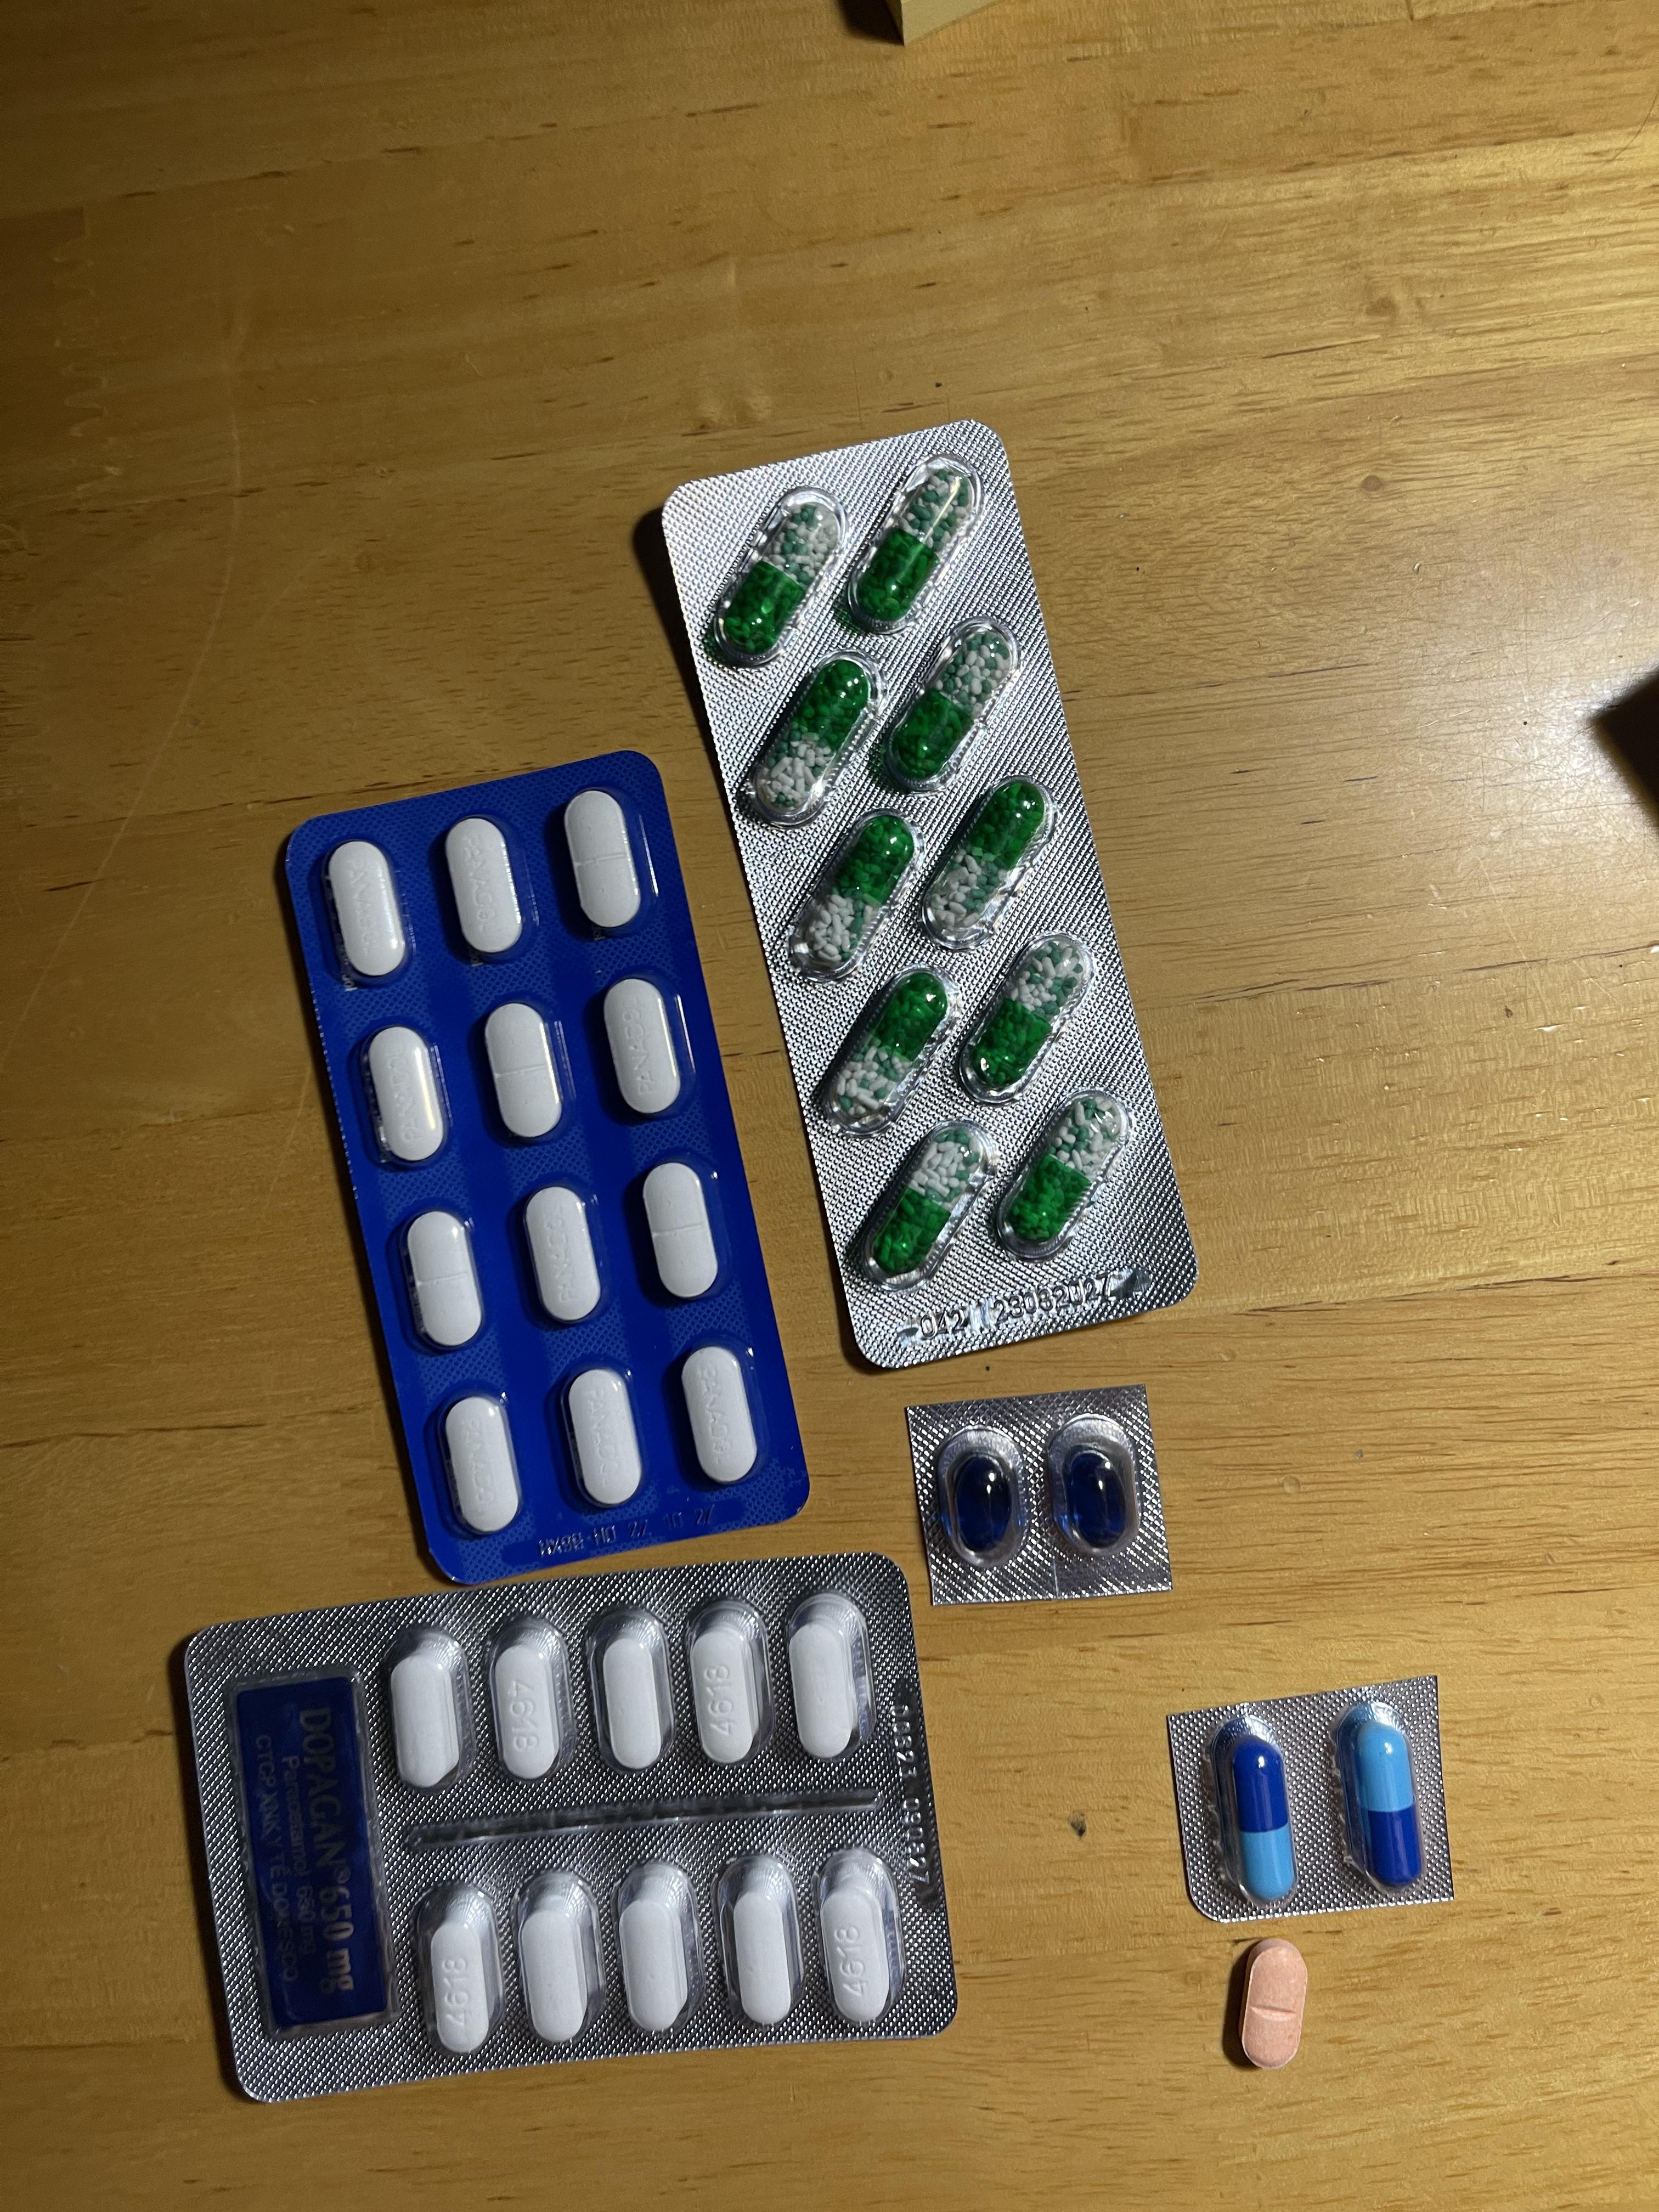Lincomyxin_500mg: (951, 1453, 1015, 1558), (1063, 1449, 1126, 1548)
Loratadine_10mg: (1235, 1934, 1308, 2070)
Paracetamol_350mg: (362, 1026, 448, 1166), (602, 978, 685, 1121), (482, 1000, 565, 1142), (402, 1211, 484, 1353), (562, 1367, 645, 1508), (523, 1186, 605, 1327), (444, 818, 526, 958), (325, 841, 407, 980), (680, 1345, 759, 1487), (640, 1164, 720, 1303), (441, 1396, 520, 1536), (564, 792, 642, 932)
Paracetamol_500mg: (817, 1848, 902, 2025), (589, 1606, 676, 1773), (488, 1615, 571, 1783), (518, 1871, 600, 2042), (618, 1861, 697, 2033), (787, 1595, 871, 1757), (687, 1605, 770, 1765), (425, 1888, 501, 2054), (730, 1861, 800, 2027), (390, 1637, 466, 1790)
Paracetamol_650mg: (837, 451, 984, 634), (871, 622, 1026, 795), (702, 486, 847, 669), (845, 1115, 999, 1285), (808, 963, 956, 1130), (990, 1092, 1126, 1259), (953, 934, 1091, 1099), (909, 785, 1052, 944), (743, 658, 882, 820), (780, 808, 916, 972)
pill: (1351, 1711, 1421, 1888), (1228, 1731, 1293, 1904)
